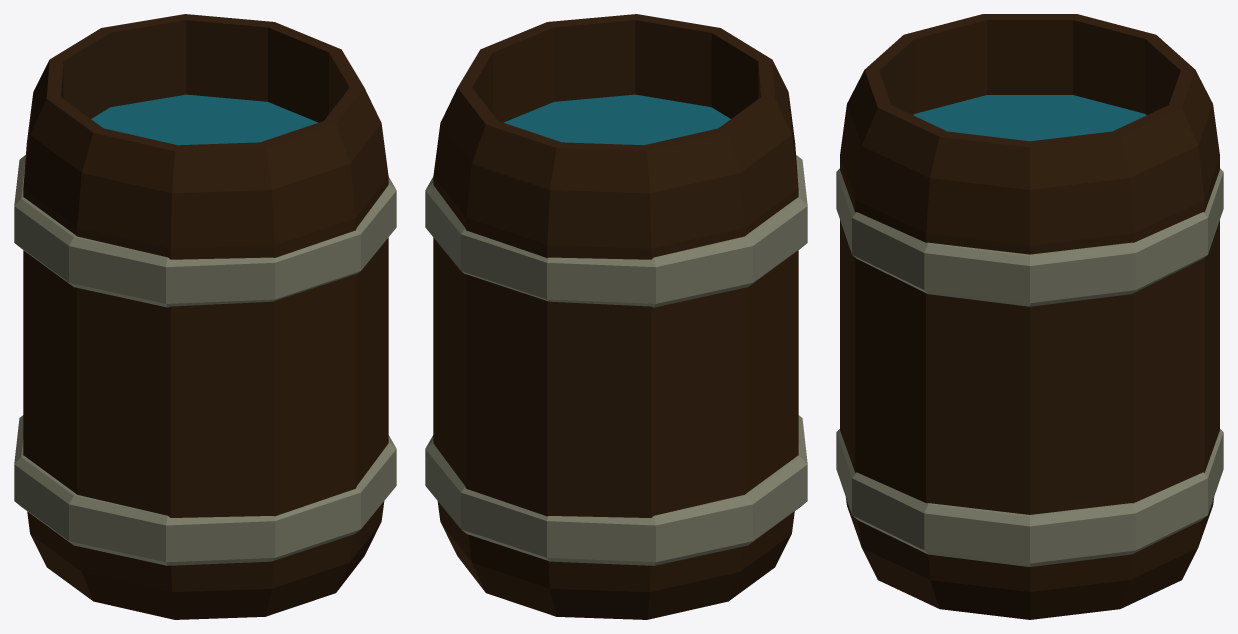
The model's file is Barrel.FBX.
The picture shows the model from 3 angles, left to right: view 1: azimuth 30°, elevation 25°; view 2: azimuth 150°, elevation 25°; view 3: azimuth 270°, elevation 25°; orthographic projection.
Visible parts, largest first — view 1: Barrel; view 2: Barrel; view 3: Barrel.
Boxes of the visible parts, x1,y1,x2,y2 form: Barrel: (14,14,396,619); Barrel: (425,14,807,619); Barrel: (836,14,1223,619).
Bounding box in the file's own units: 17.85 × 24.27 × 18.04.
